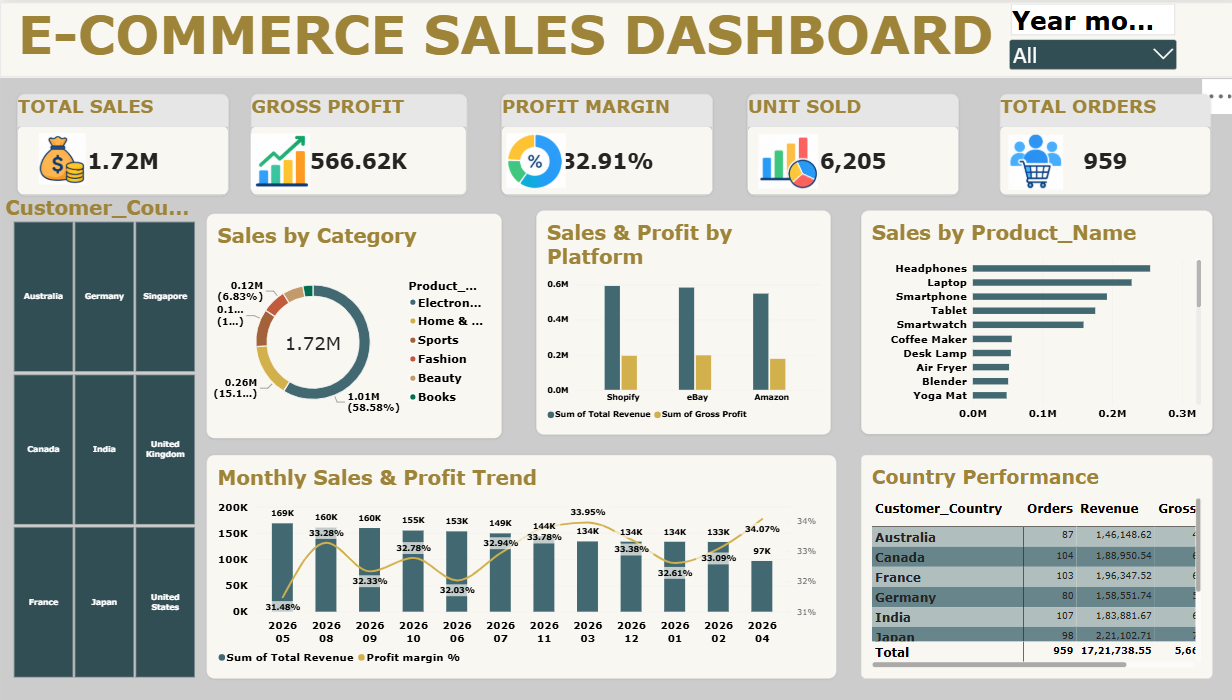

What the dashboard file says about the page in this screenshot:
{"tool":"powerbi","page":{"name":"Page 1","canvas":[1920,1080],"ordinal":0},"visuals":[{"type":"textbox","box":[10,206,1909,150],"z":0},{"type":"textbox","box":[0,0,1919.6,116.6],"z":1000},{"type":"cardVisual","title":"TOTAL SALES","fields":{"Data":["Ecom_Sales_Data.Total sales"]},"box":[27.9,142,327.1,157.2],"z":2000},{"type":"cardVisual","title":"GROSS PROFIT","fields":{"Data":["Ecom_Sales_Data.Gross Profit KPI"]},"box":[388,142,334.7,157.2],"z":3000},{"type":"cardVisual","title":"PROFIT MARGIN","fields":{"Data":["Ecom_Sales_Data.Profit margin %"]},"box":[776,142,327.1,157.2],"z":4000},{"type":"cardVisual","title":"UNIT SOLD","fields":{"Data":["Calendear.unit Sold Display"]},"box":[1156.3,142,327.1,157.2],"z":5000},{"type":"cardVisual","title":"TOTAL ORDERS","fields":{"Data":["Calendear.Total Order Display"]},"box":[1546.8,142,327.1,157.2],"z":6000},{"type":"donutChart","title":"Sales by Category","fields":{"Category":["Ecom_Sales_Data.Product_Category"],"Y":["Sum(Ecom_Sales_Data.Total Revenue)"]},"box":[320.5,325.6,456.4,347.4],"z":7000},{"type":"clusteredColumnChart","title":"Sales & Profit by Platform","fields":{"Category":["Ecom_Sales_Data.Platform"],"Y":["Sum(Ecom_Sales_Data.Total Revenue)","Sum(Ecom_Sales_Data.Gross Profit)"]},"box":[828.2,323.1,456,347],"z":8000},{"type":"lineClusteredColumnComboChart","title":"Monthly Sales & Profit Trend","fields":{"Category":["Calendear.Year month"],"Y":["Sum(Ecom_Sales_Data.Total Revenue)"],"Y2":["Ecom_Sales_Data.Profit margin %"]},"box":[320.5,700,974.4,346.2],"z":9000},{"type":"barChart","title":"  Sales by Product_Name","fields":{"Category":["Ecom_Sales_Data.Product_Name"],"Y":["Sum(Ecom_Sales_Data.Total Revenue)"]},"box":[1330.8,323.1,543.6,346.2],"z":10000},{"type":"pivotTable","title":"Country Performance","fields":{"Rows":["Ecom_Sales_Data.Customer_Country"],"Values":["Ecom_Sales_Data.Total Orders","Sum(Ecom_Sales_Data.Total Revenue)","Sum(Ecom_Sales_Data.Gross Profit)"]},"box":[1330.8,700,543.6,346.2],"z":11000},{"type":"slicer","fields":{"Values":["Calendear.Year month"]},"box":[1556.1,2.4,269.2,115.4],"z":12000},{"type":"slicer","fields":{"Values":["Ecom_Sales_Data.Customer_Country"]},"box":[0,297.4,320.5,748.7],"z":13000},{"type":"image","box":[28.2,202.6,133.3,79.5],"z":14000},{"type":"image","box":[387.2,194.9,92.3,102.6],"z":15000},{"type":"image","box":[782.1,197.4,92.3,94.9],"z":16000},{"type":"image","box":[1174.4,202.6,92.3,87.2],"z":17000},{"type":"image","box":[1556.4,205.1,92.3,84.6],"z":18000}]}

Visuals, with their boxes in screenshot pixels (x1, y1, x2, y2), scaled from the page's 1920x1080 canvas onto the 1232x700 screenshot:
textbox: (x1=6, y1=134, x2=1231, y2=231)
textbox: (x1=0, y1=0, x2=1231, y2=76)
"TOTAL SALES" cardVisual: (x1=18, y1=92, x2=228, y2=194)
"GROSS PROFIT" cardVisual: (x1=249, y1=92, x2=464, y2=194)
"PROFIT MARGIN" cardVisual: (x1=498, y1=92, x2=708, y2=194)
"UNIT SOLD" cardVisual: (x1=742, y1=92, x2=952, y2=194)
"TOTAL ORDERS" cardVisual: (x1=993, y1=92, x2=1202, y2=194)
"Sales by Category" donutChart: (x1=206, y1=211, x2=499, y2=436)
"Sales & Profit by Platform" clusteredColumnChart: (x1=531, y1=209, x2=824, y2=434)
"Monthly Sales & Profit Trend" lineClusteredColumnComboChart: (x1=206, y1=454, x2=831, y2=678)
"  Sales by Product_Name" barChart: (x1=854, y1=209, x2=1203, y2=434)
"Country Performance" pivotTable: (x1=854, y1=454, x2=1203, y2=678)
slicer - Calendear.Year month: (x1=998, y1=2, x2=1171, y2=76)
slicer - Ecom_Sales_Data.Customer_Country: (x1=0, y1=193, x2=206, y2=678)
image: (x1=18, y1=131, x2=104, y2=183)
image: (x1=248, y1=126, x2=308, y2=193)
image: (x1=502, y1=128, x2=561, y2=189)
image: (x1=754, y1=131, x2=813, y2=188)
image: (x1=999, y1=133, x2=1058, y2=188)
